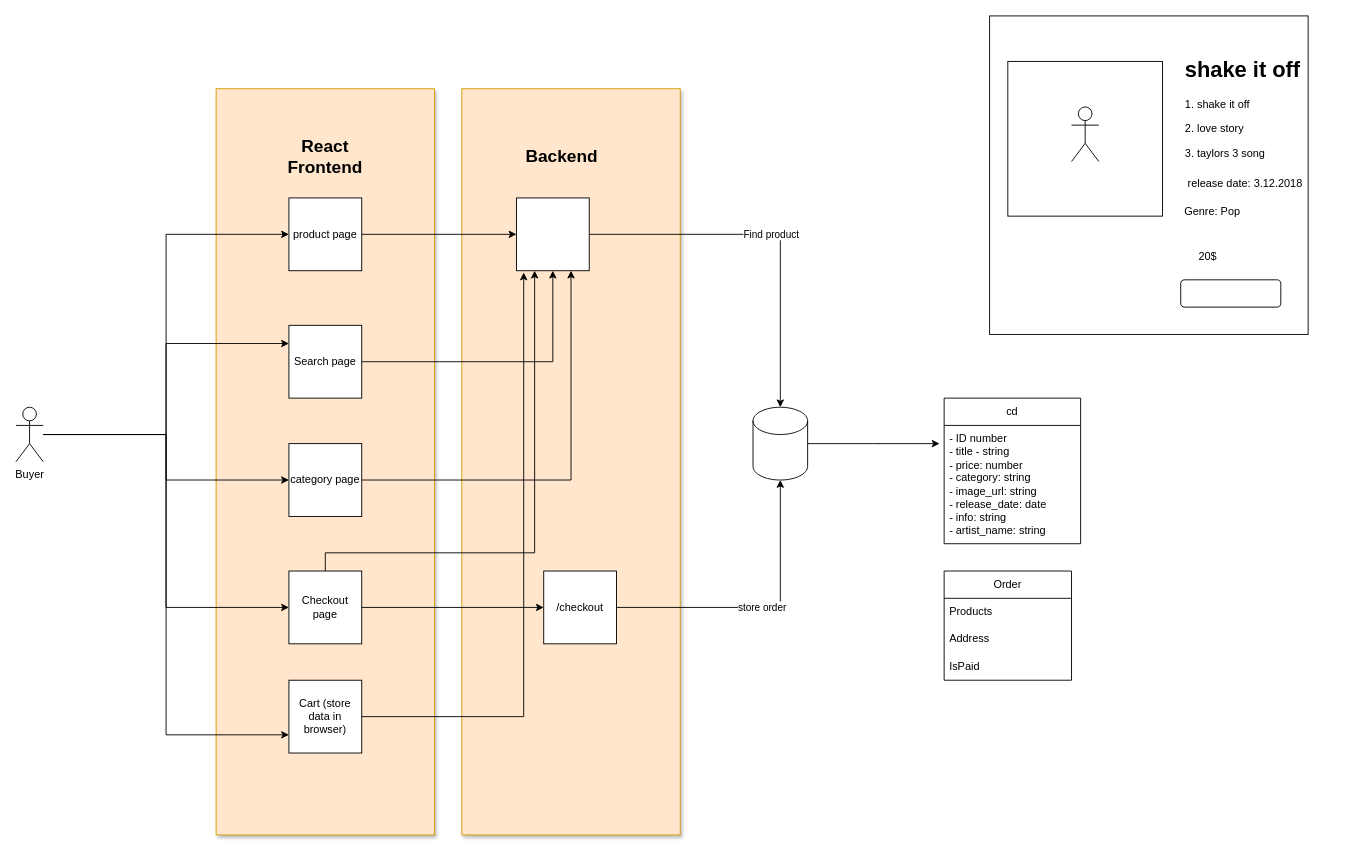
Image size: 1370x857. Some labels were removed from this diagram. The shapes that lost their labels are listed below. From the top down, each one's centre as x and y in pixels, then its label:
the point at 1085,134: Actor
the point at 552,234: /product end point
the point at 1230,293: buy
the point at 780,443: database
